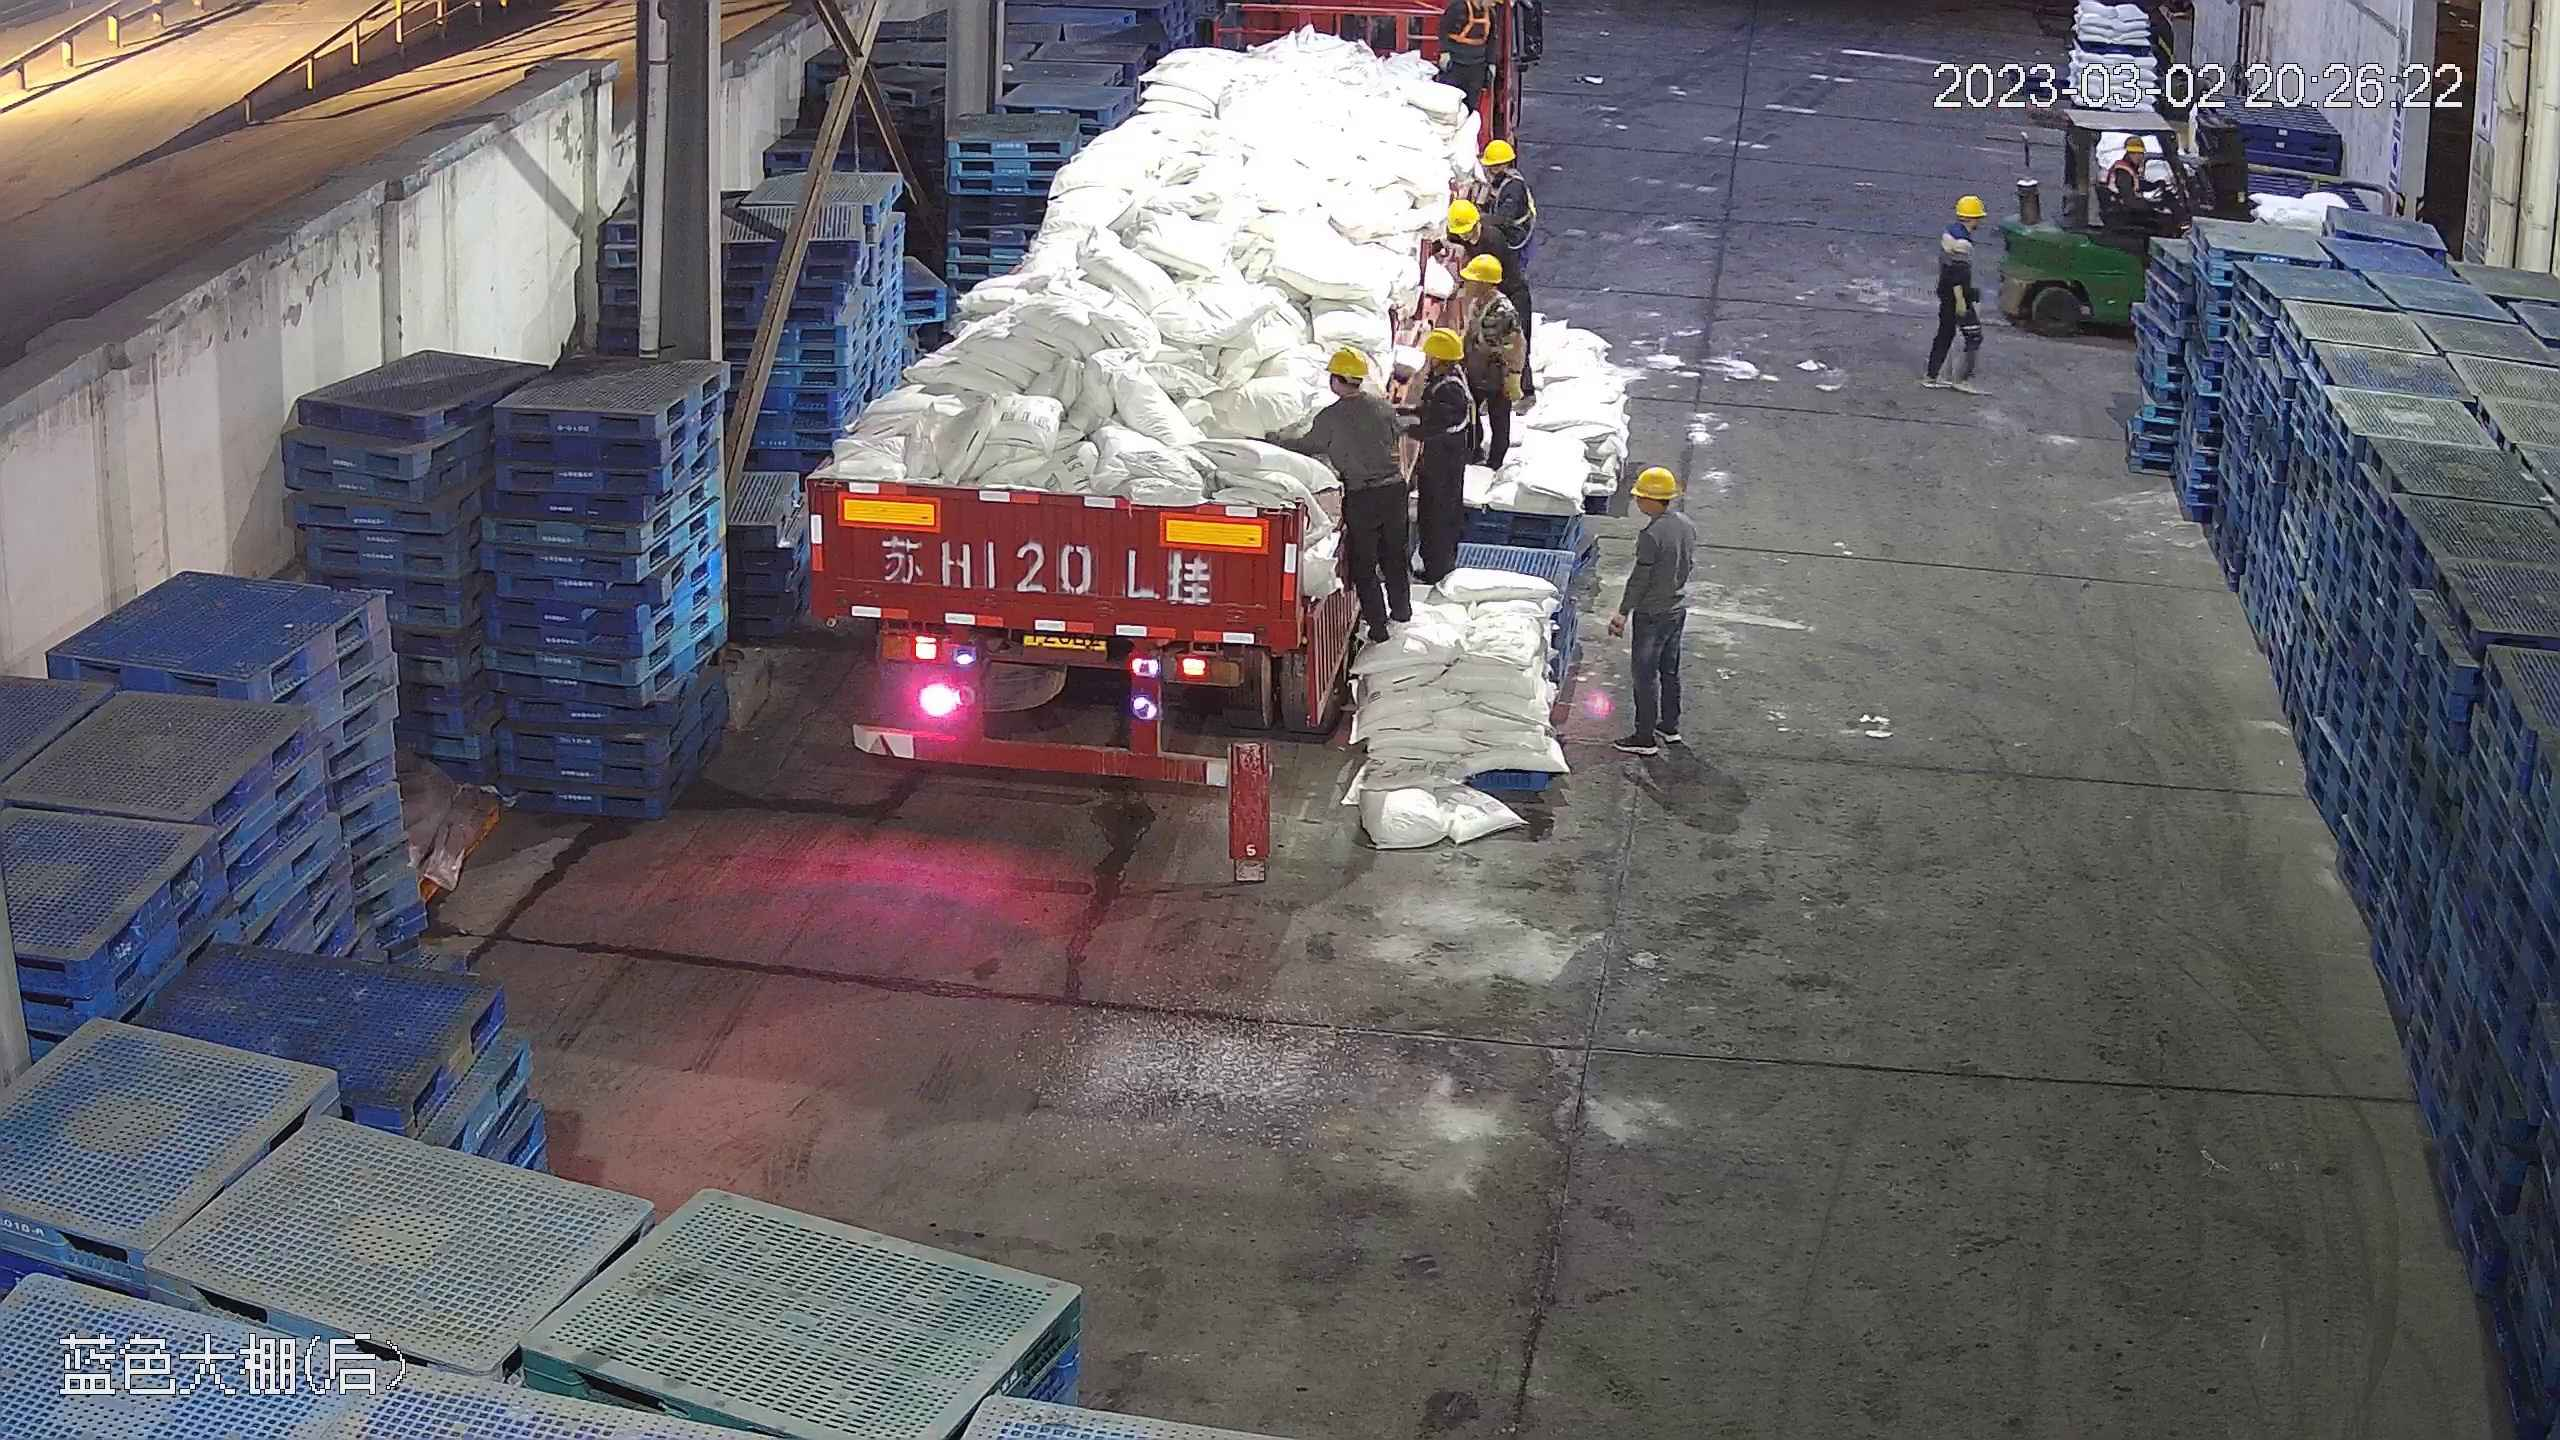belt: (1420, 372, 1471, 431), (1492, 164, 1538, 226), (1461, 289, 1504, 354), (1448, 3, 1497, 48)
head: (1309, 341, 1399, 441), (1626, 464, 1694, 562), (1405, 324, 1472, 406), (1449, 252, 1516, 331), (1472, 136, 1536, 208), (2107, 134, 2159, 191), (1938, 194, 1987, 255)
helmet: (1418, 324, 1465, 360), (1630, 464, 1677, 500), (1325, 343, 1375, 377), (1447, 199, 1482, 234), (1480, 137, 1517, 164), (2118, 134, 2150, 157), (1956, 192, 1985, 214)
people: (1258, 338, 1416, 660), (1617, 461, 1699, 755), (1401, 329, 1482, 588), (1920, 193, 1991, 388), (1464, 247, 1518, 470)
truck: (792, 10, 1478, 792)
